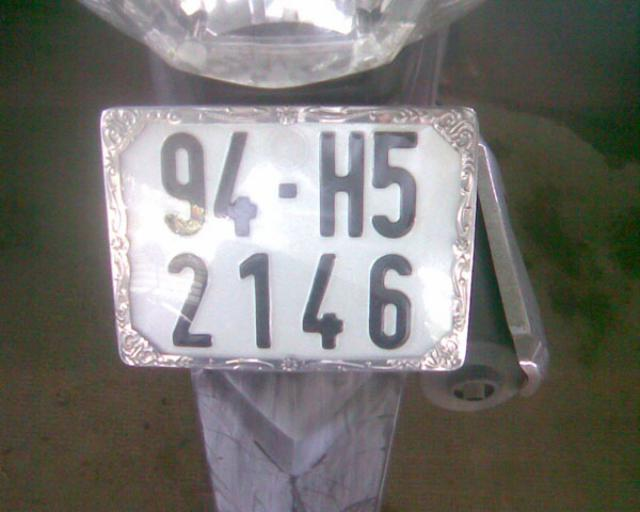plate: (98, 105, 466, 371)
